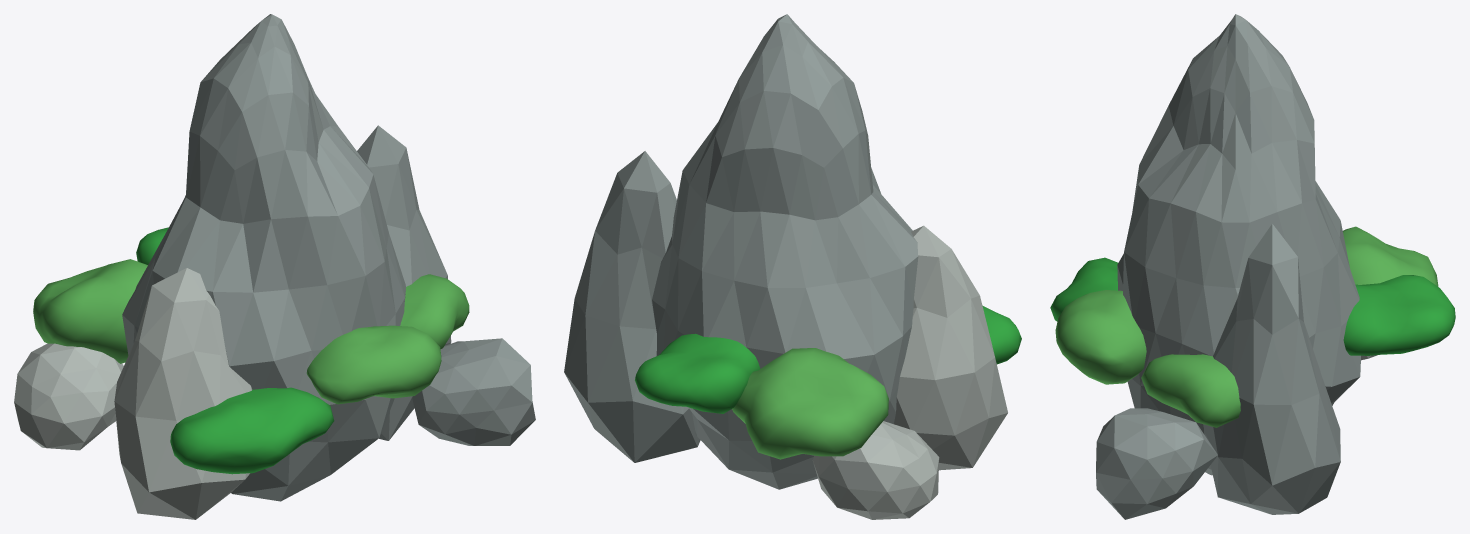
Rendered from JungleMountain.fbx.
3 renders of one model, left to right at view 1: azimuth 30°, elevation 25°; view 2: azimuth 150°, elevation 25°; view 3: azimuth 270°, elevation 25°, orthographic. The views are drawn at different scales.
Parts seen in each view (by area): view 1: MountainCore, SidePeak_1, FootBoulder_0, SlopeGreen_3, FootBoulder_1, SlopeGreen_4, SlopeGreen_2, SidePeak_0, SlopeGreen_0, SlopeGreen_1; view 2: MountainCore, SidePeak_0, SidePeak_1, SlopeGreen_2, FootBoulder_1, SlopeGreen_1, SlopeGreen_3; view 3: MountainCore, SidePeak_0, FootBoulder_0, SlopeGreen_1, SlopeGreen_4, SlopeGreen_0, SlopeGreen_2, SlopeGreen_3.
Boxes of the visible parts, box(x1,y1,x2,y2) form: MountainCore: box(122, 14, 405, 501); SidePeak_1: box(114, 268, 252, 519); FootBoulder_0: box(412, 338, 535, 445); SlopeGreen_3: box(170, 387, 334, 474); FootBoulder_1: box(14, 343, 123, 450); SlopeGreen_4: box(306, 325, 441, 404); SlopeGreen_2: box(33, 259, 147, 363); SidePeak_0: box(357, 125, 451, 440); SlopeGreen_0: box(400, 274, 469, 348); SlopeGreen_1: box(136, 227, 168, 264); MountainCore: box(652, 14, 918, 489); SidePeak_0: box(564, 151, 700, 462); SidePeak_1: box(894, 225, 1007, 470); SlopeGreen_2: box(732, 348, 888, 459); FootBoulder_1: box(812, 421, 939, 519); SlopeGreen_1: box(635, 333, 760, 413); SlopeGreen_3: box(982, 305, 1021, 364); MountainCore: box(1117, 14, 1360, 475); SidePeak_0: box(1203, 223, 1340, 514); FootBoulder_0: box(1096, 408, 1217, 519); SlopeGreen_1: box(1343, 275, 1455, 355); SlopeGreen_4: box(1055, 290, 1146, 384); SlopeGreen_0: box(1141, 354, 1240, 427); SlopeGreen_2: box(1343, 226, 1438, 286); SlopeGreen_3: box(1050, 257, 1117, 321).
Bounding box in the file's own units: 6.1 × 6.89 × 5.51.
